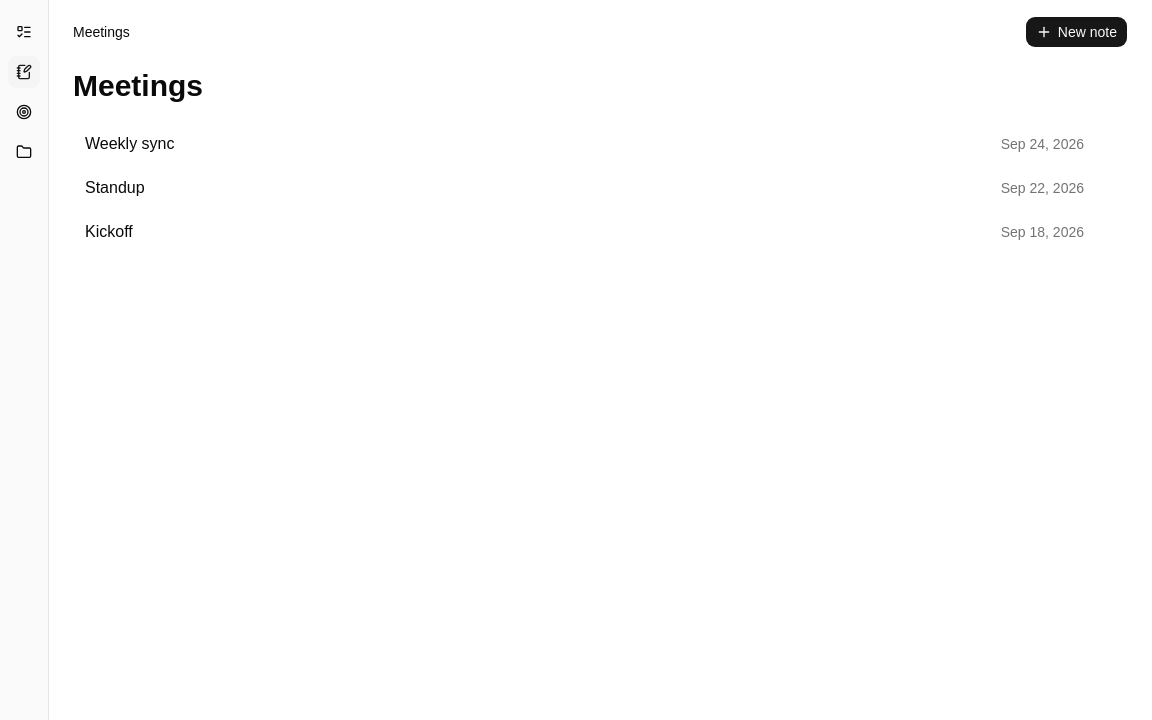
Scenario: Delete meetings › from the editor page › names the meeting in the toast with the name the user typed
Click the link "Standup Sep 22, 2026" at coordinates (115, 188), box top-left (85, 179), bottom-right (1084, 196)
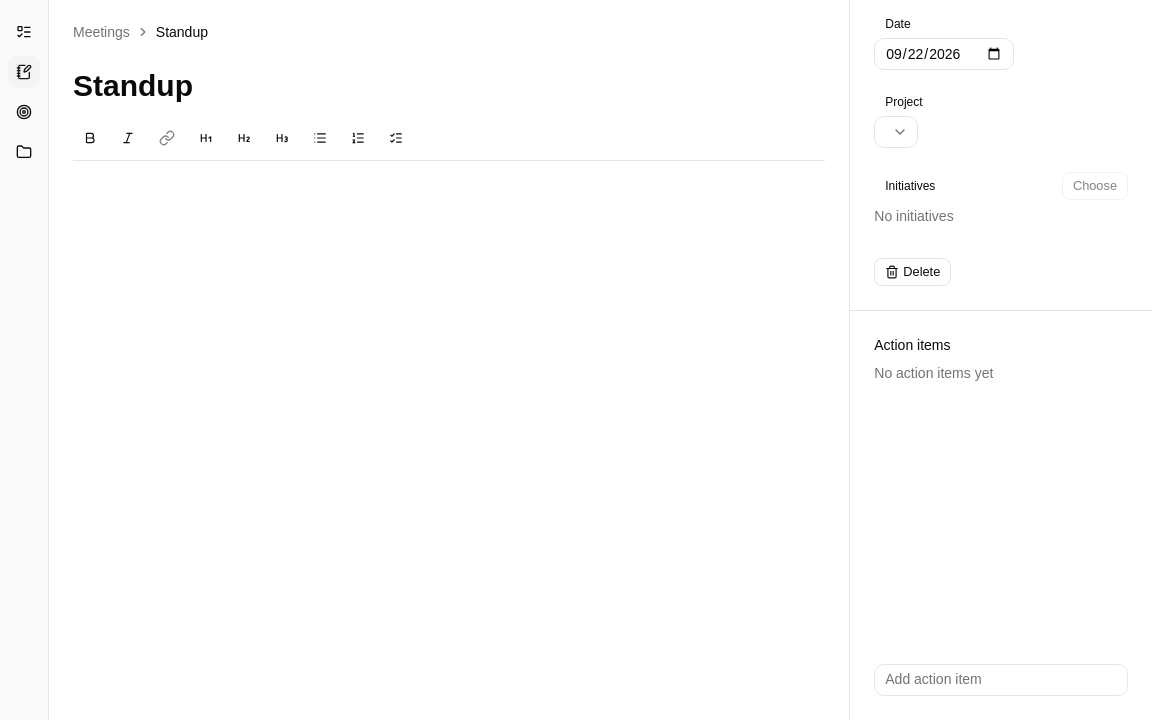
Replace the text in the field named "Meeting name" with "Retro" at coordinates (449, 86), box top-left (73, 64), bottom-right (825, 108)
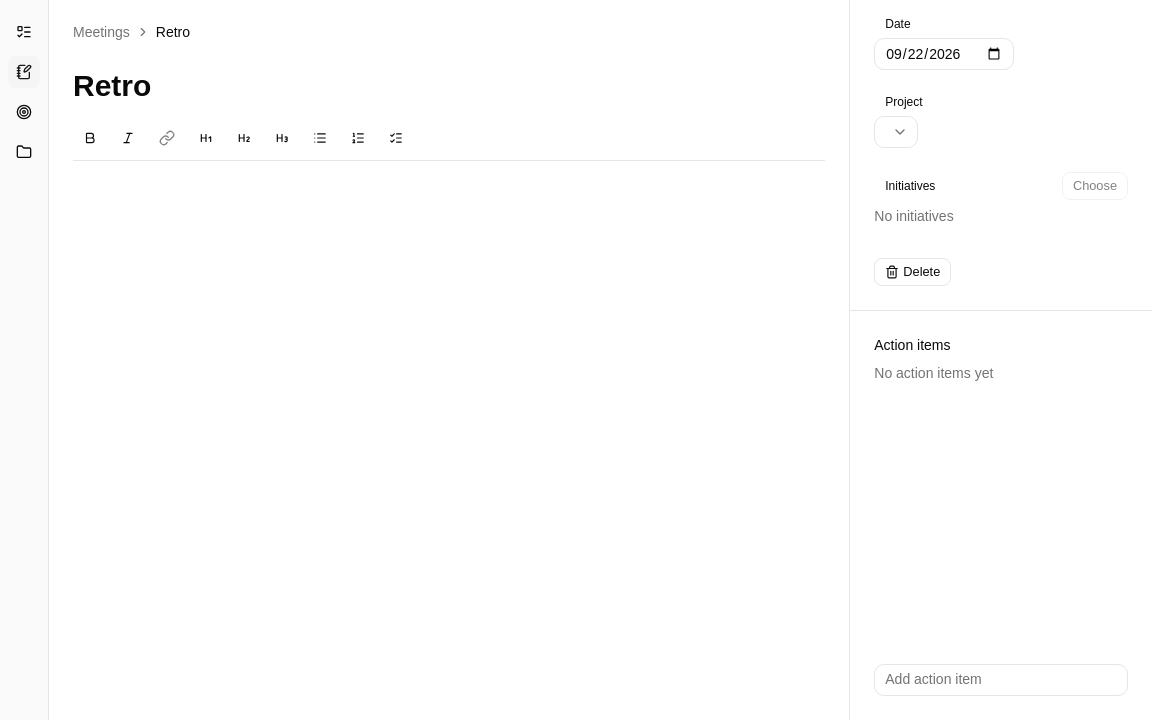
Click the button "Delete" at coordinates (913, 272), box top-left (874, 258), bottom-right (951, 286)
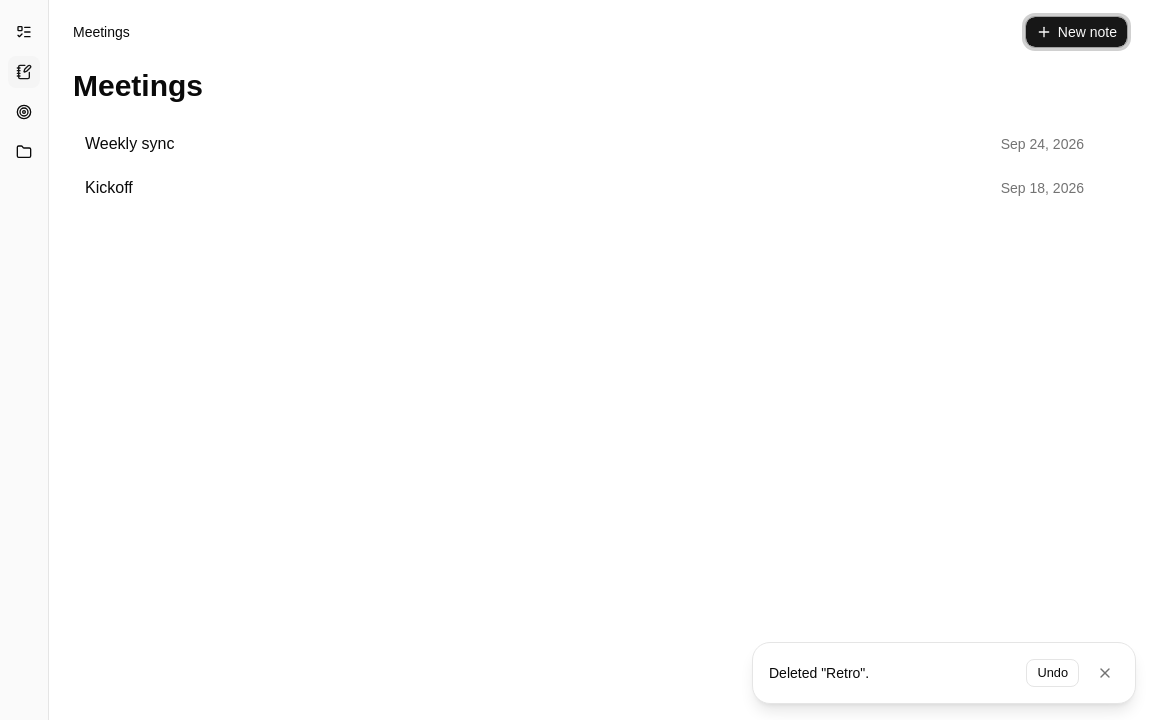
Now the heading "Deleted \"Retro\"." is shown, box top-left (769, 665), bottom-right (869, 681)
